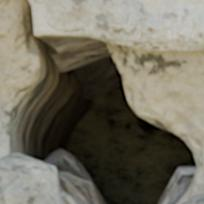brick: (30, 0, 203, 50)
broken_brick: (0, 153, 66, 203), (184, 192, 203, 203)
crack: (0, 0, 201, 203)
